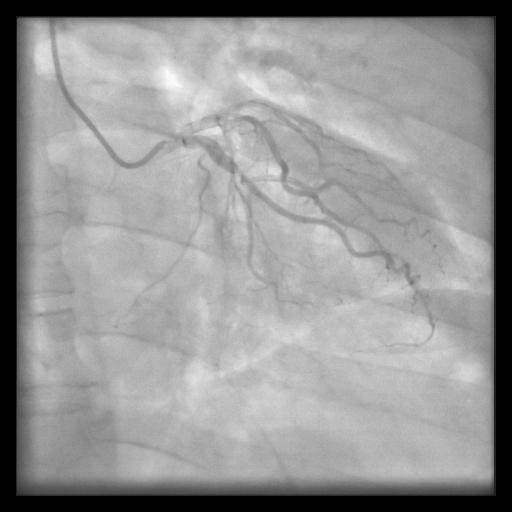Stenosis: (234, 164, 242, 180)
